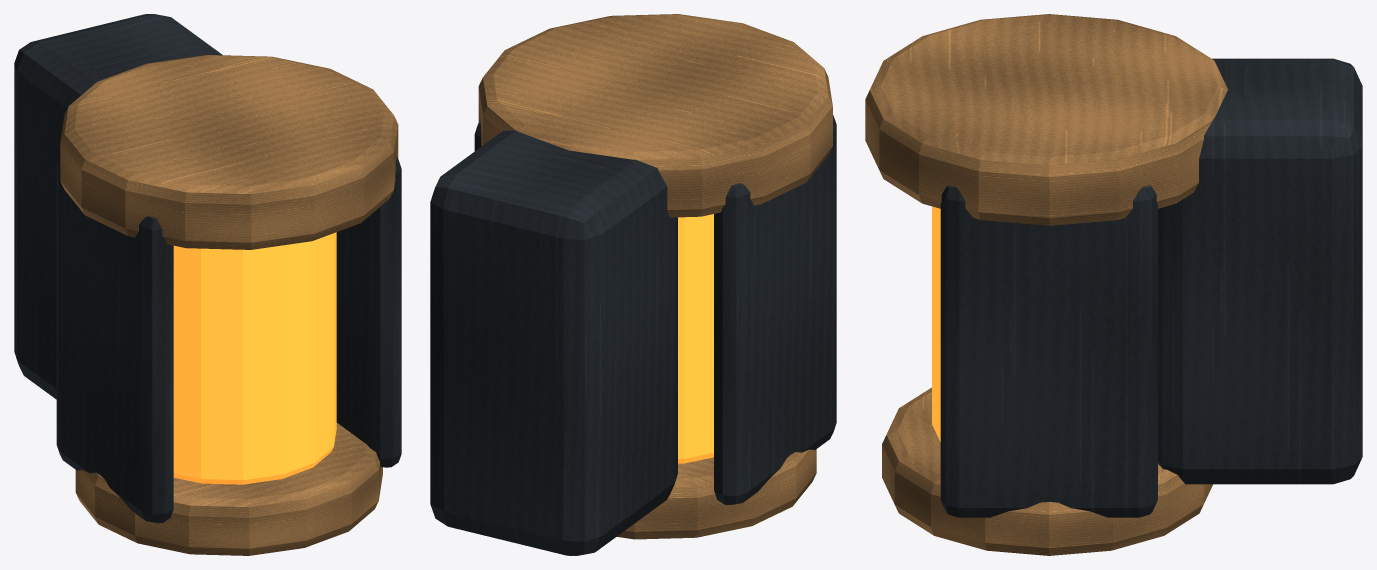
Rendered from lamp.glb.
3 renders of one model, left to right at view 1: azimuth 30°, elevation 25°; view 2: azimuth 150°, elevation 25°; view 3: azimuth 270°, elevation 25°, orthographic. The views are drawn at different scales.
Parts seen in each view (by area): view 1: lamp; view 2: lamp; view 3: lamp.
Part boxes in pixels (x1,y1,x2,y2): lamp: [14, 14, 401, 555]; lamp: [430, 14, 836, 555]; lamp: [865, 14, 1362, 555].
Size of the model in its own units: 0.44 by 0.535 by 0.595.
Materials: 3 (2 with a texture image).
